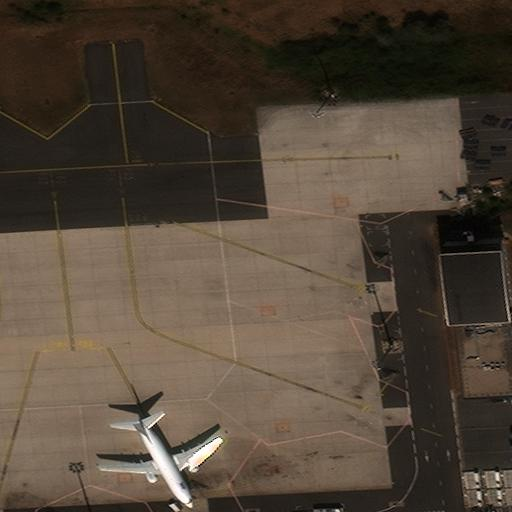Medium Civil Transport: (100, 420, 223, 508)
